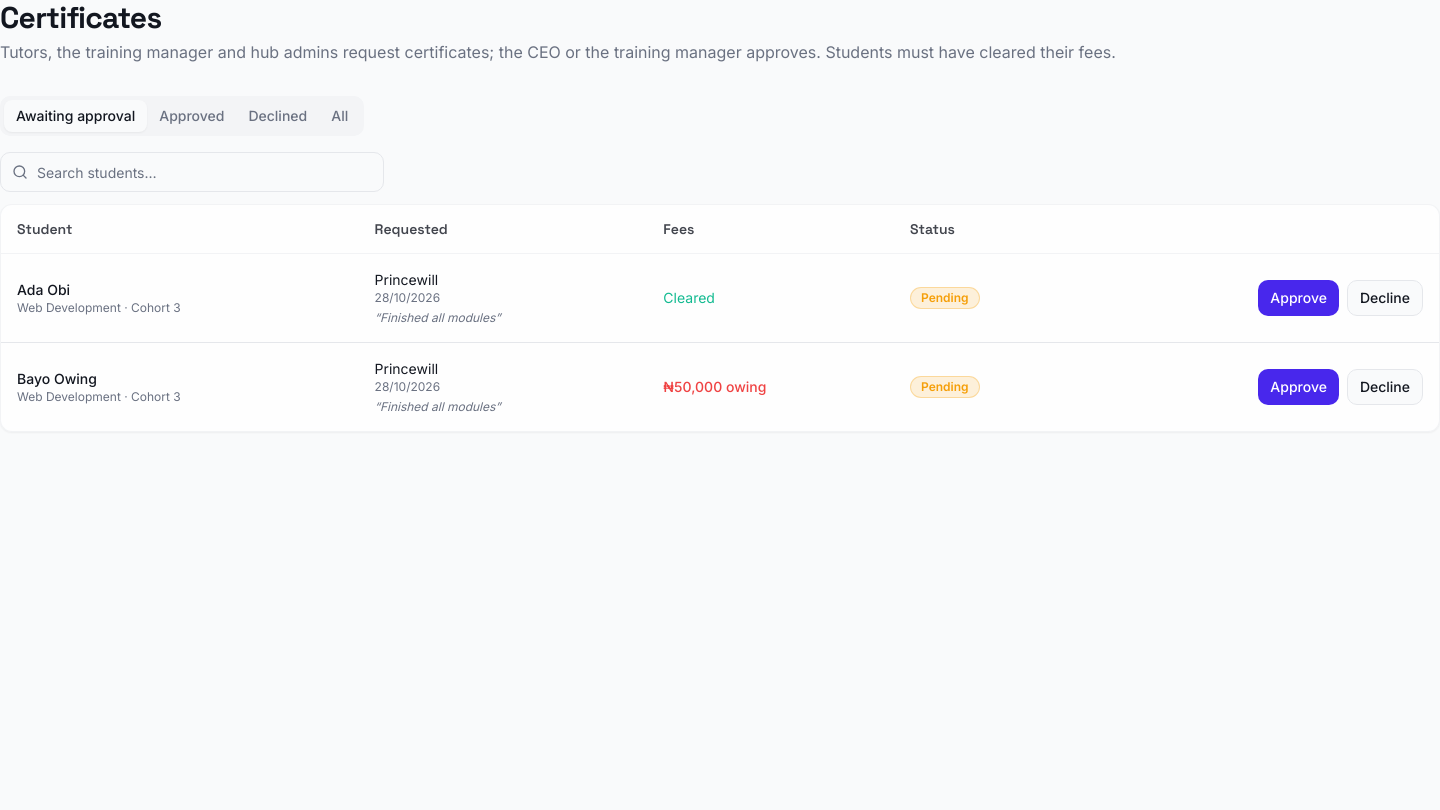
Test: CertificatesPage › lets the CEO approve a student who owes, with a reason
Later steps or results of the test are not shown.
What coordinates should you click on to do the following:
click the button "Approve" in the row of "Bayo Owing"
I would click on:
 (1299, 386)
Its box is [1258,368,1339,404].
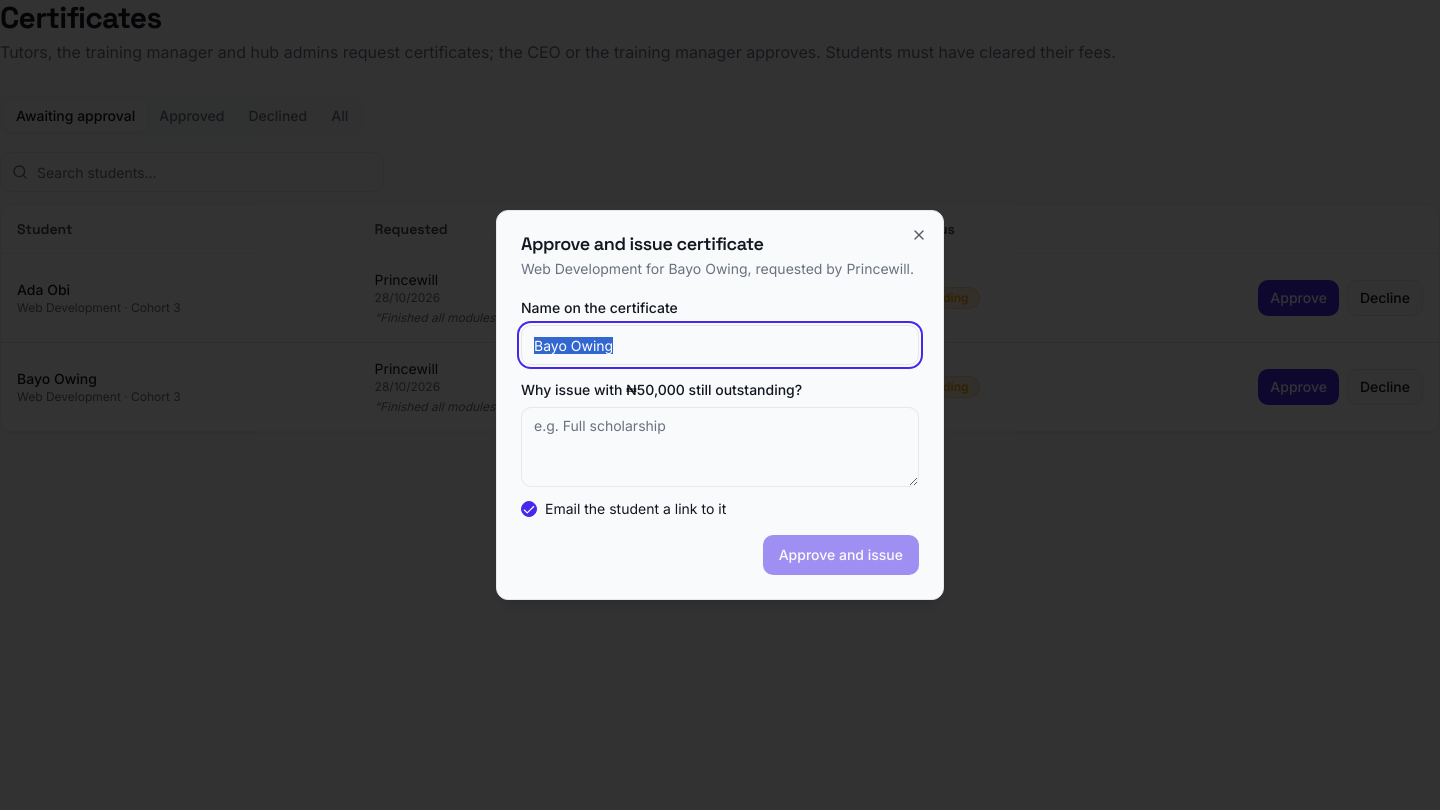
Now the button "Approve and issue" is disabled, box [763,535,919,575]
